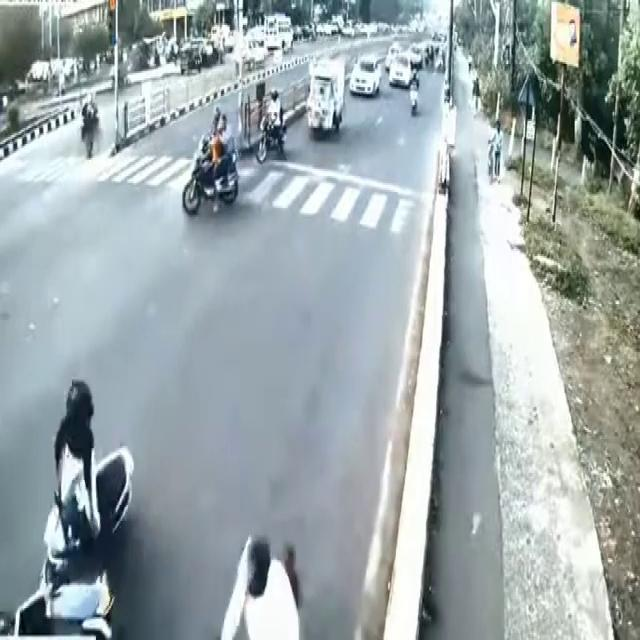accident: (4, 378, 140, 640)
